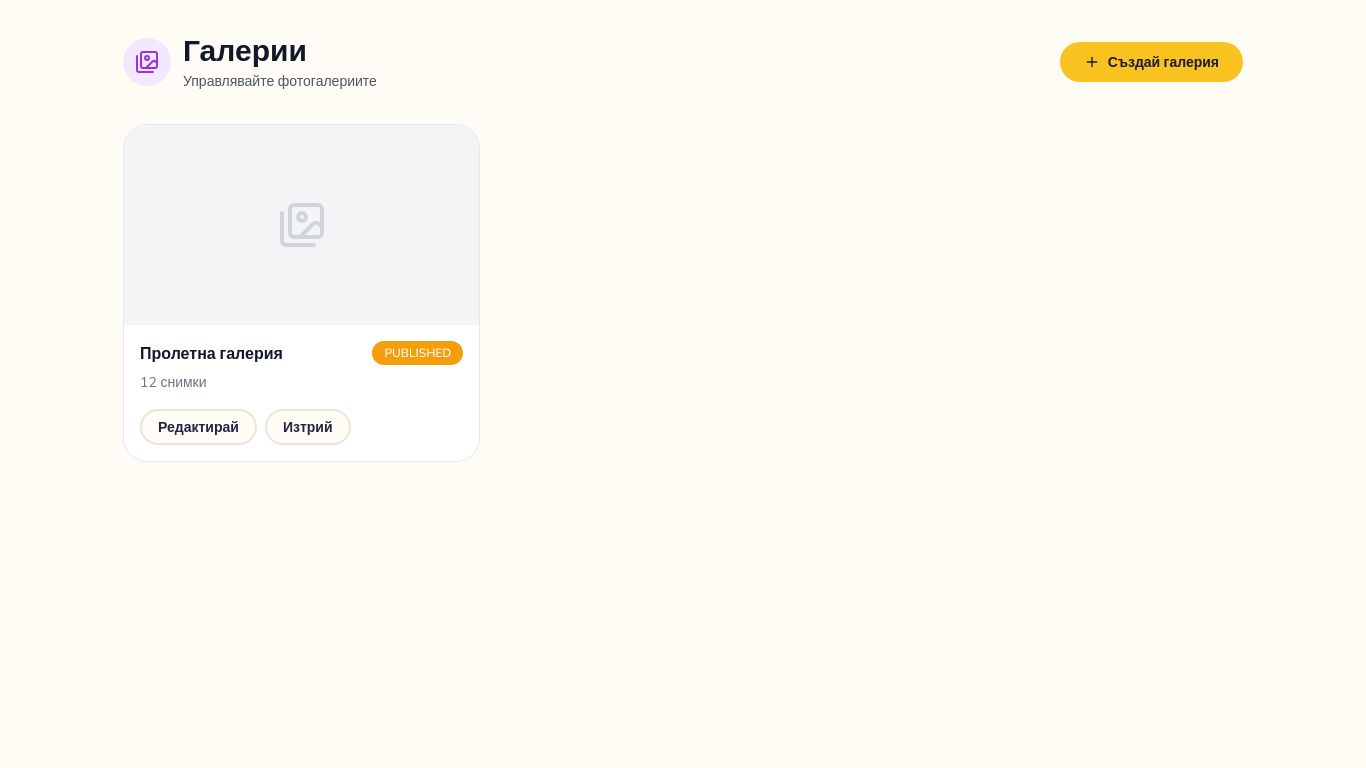
GalleriesList › clicking Delete opens confirmation dialog
This screenshot has width=1366, height=768.
Click the button "Изтрий": x=308, y=427 [265,409,351,445]
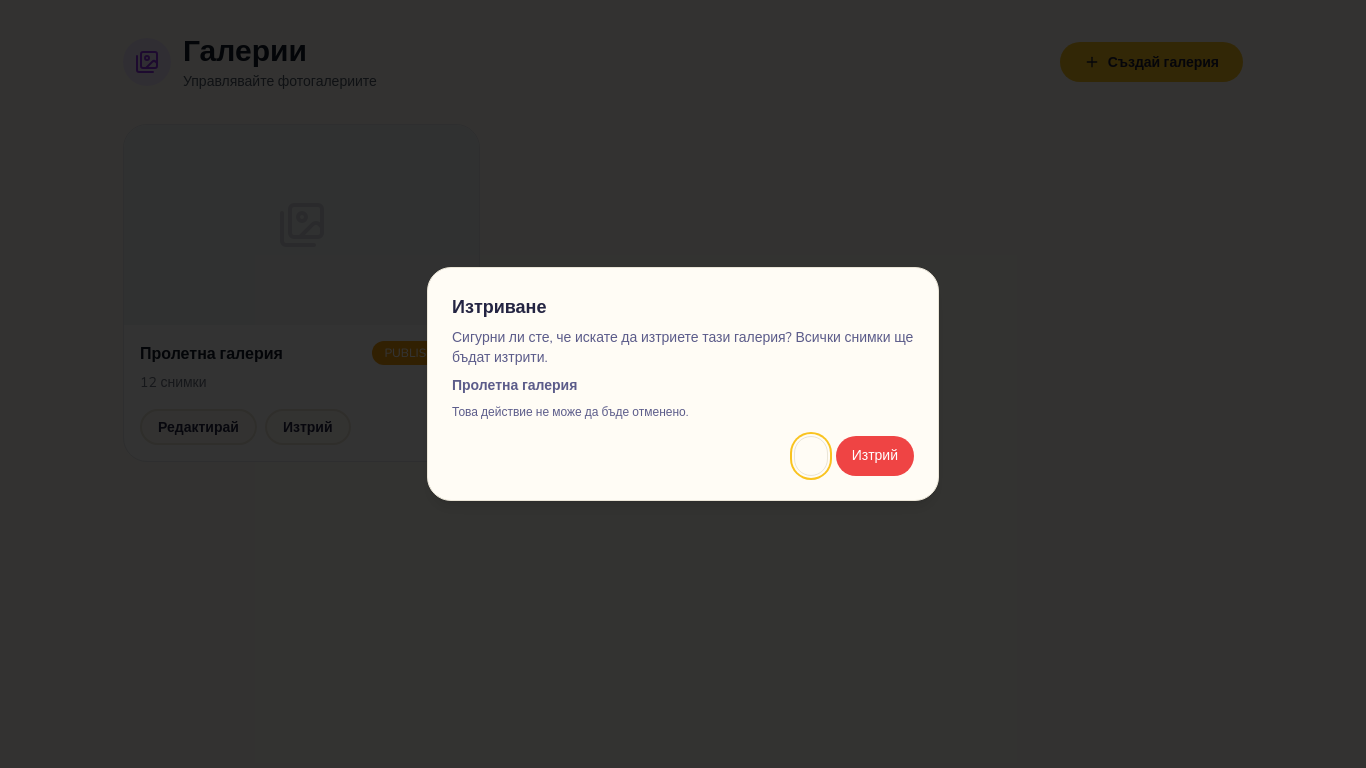
Result: the text "Сигурни ли сте" is shown at [452,328,913,367]
